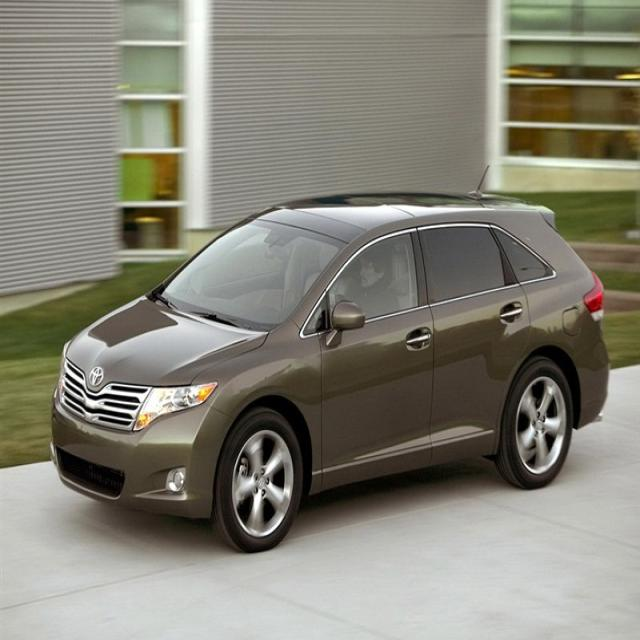back_left_side_light: (582, 268, 607, 322)
door: (415, 221, 533, 453)
front_bumper: (48, 388, 234, 524)
front_glass: (160, 214, 342, 328)
front_left_side_door: (318, 220, 438, 492)
front_left_side_light: (132, 379, 218, 434)
front_left_side_mirror: (324, 299, 366, 348)
wheel: (216, 409, 306, 552), (493, 356, 575, 488)
